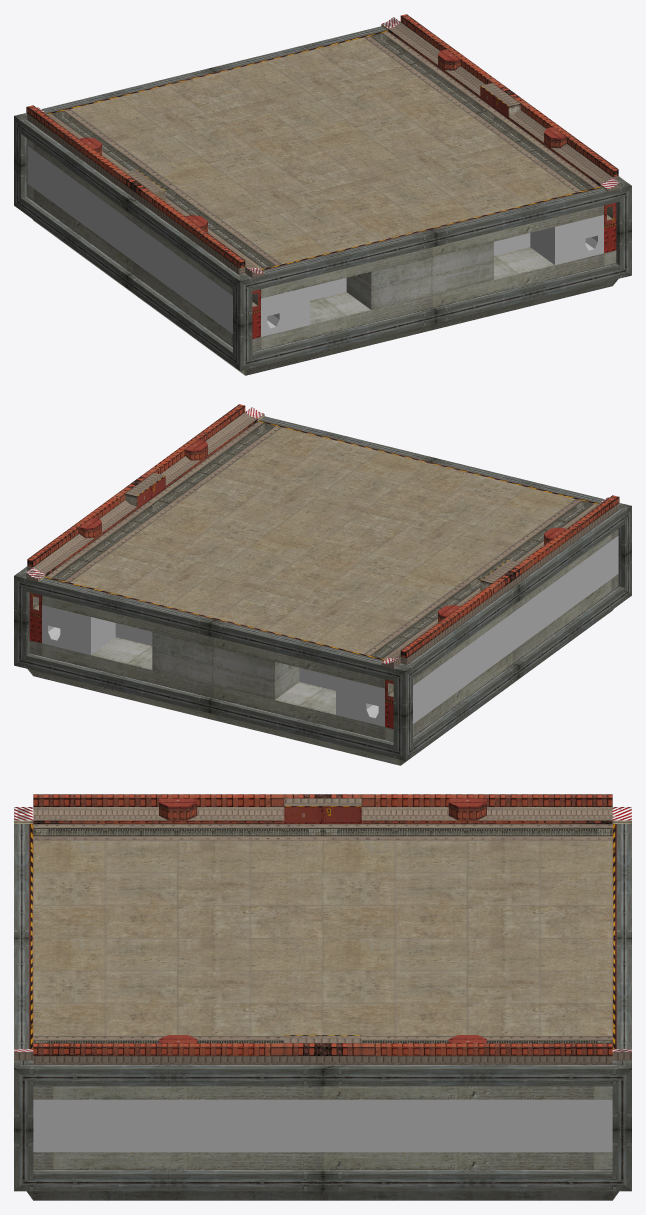
Rendered from WTP_H_I.fbx.
The picture shows the model from 3 angles, top to bottom: view 1: azimuth 30°, elevation 25°; view 2: azimuth 150°, elevation 25°; view 3: azimuth 270°, elevation 25°; orthographic projection. The views are drawn at different scales.
Parts seen in each view (by area): view 1: WTP_H_I_Lod0; view 2: WTP_H_I_Lod0; view 3: WTP_H_I_Lod0.
Boxes of the visible parts, x1=… form: WTP_H_I_Lod0: x1=14, y1=14, x2=631, y2=375; WTP_H_I_Lod0: x1=14, y1=404, x2=631, y2=765; WTP_H_I_Lod0: x1=14, y1=794, x2=631, y2=1200.
Bounding box in the file's own units: 32 × 9 × 32.
